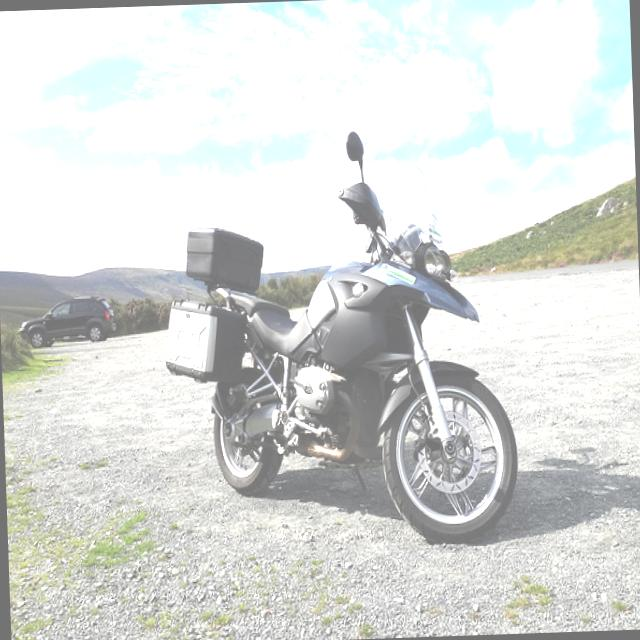Vehicle: (158, 125, 522, 548), (18, 296, 117, 348)
